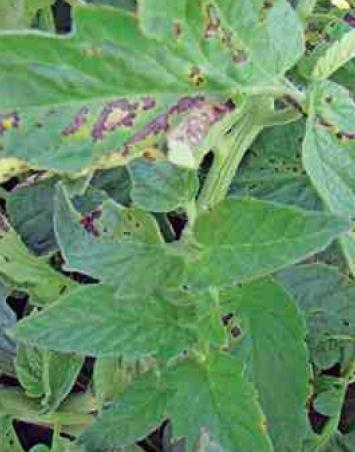Tomato Early blight leaf: (0, 0, 326, 203)
Tomato leaf: (178, 200, 355, 290), (10, 294, 174, 356), (81, 370, 184, 452)
